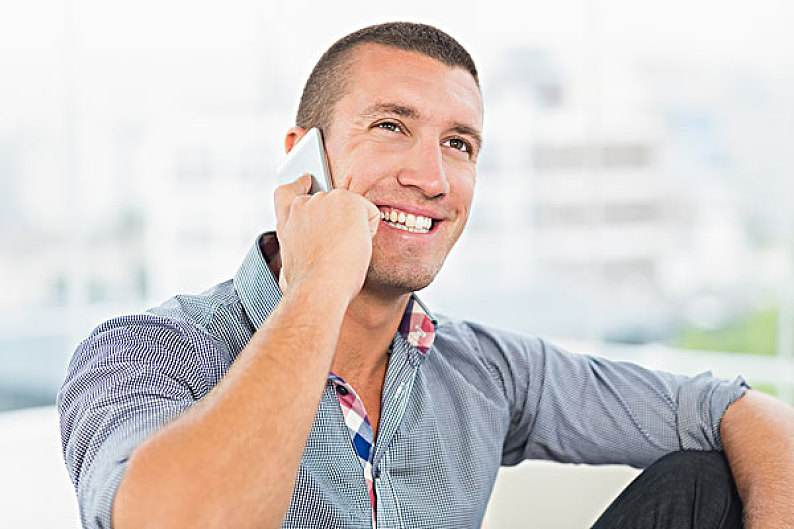calling: (267, 125, 384, 294)
